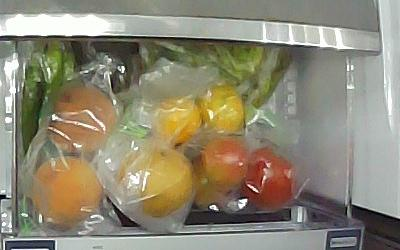peach_vinyl: (30, 155, 102, 227), (46, 87, 116, 151)
pear_vinyl: (116, 149, 194, 218)
tangerine_vinyl: (196, 82, 244, 134), (157, 95, 201, 145)
tomato_vinyl: (236, 146, 294, 210), (198, 133, 250, 188), (188, 152, 238, 207)
